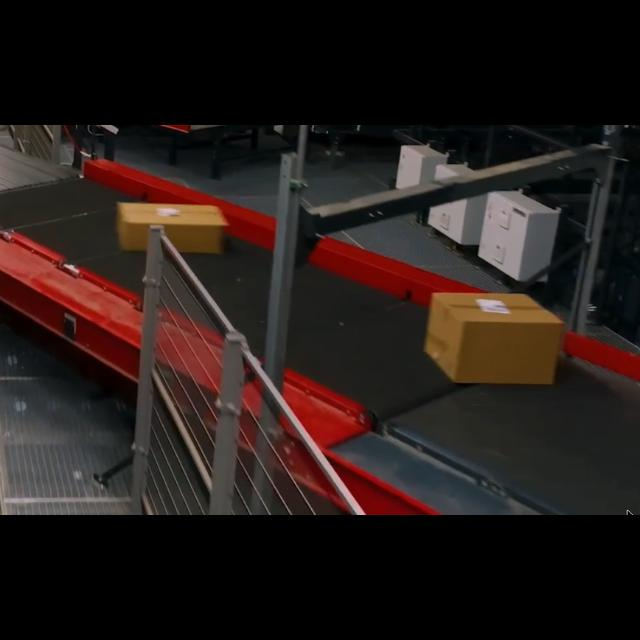box: (424, 292, 564, 384), (116, 200, 226, 254)
